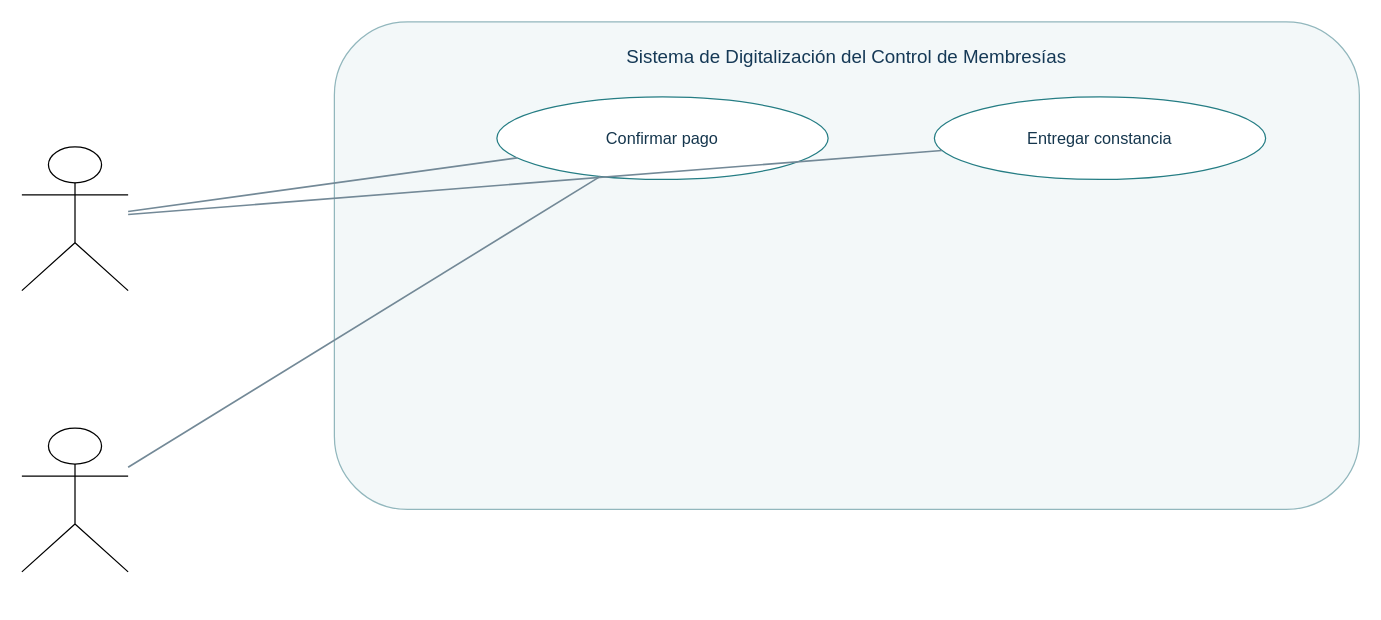
This 1381x620 diagram has some shape labels left out. The shapes that lost their labels are listed below. From the top down, each one's box as (x1, y1, x2, y2) in pixels, then its label:
(21, 146, 128, 291): Recepcionista
(21, 427, 128, 572): Cliente
